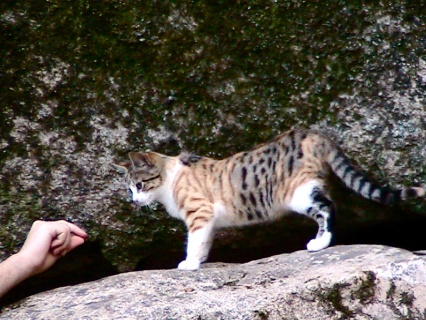Cat: (111, 126, 426, 270)
